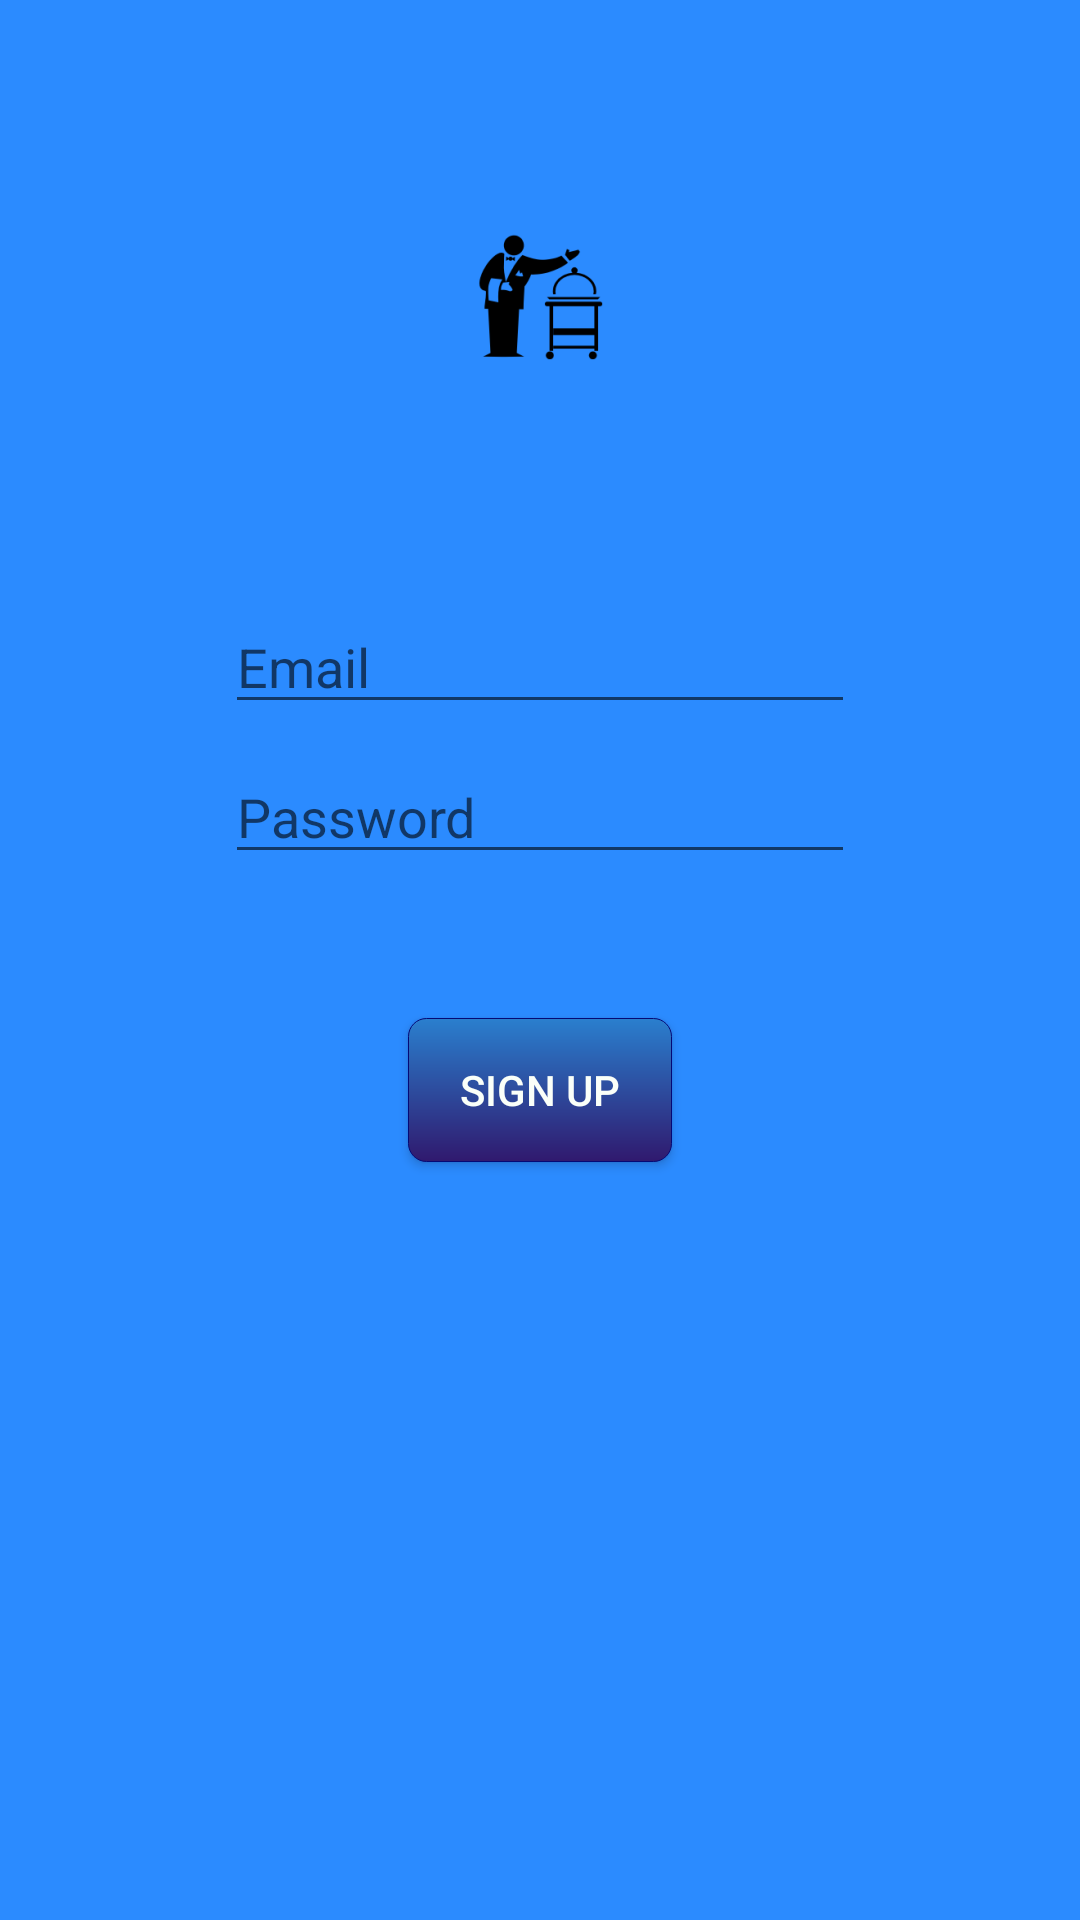

Icon bounding boxes for this 1080px x 1920px phone screenshot, format (x1, y1, x2, y2):
waiter: (479, 235, 603, 360)
